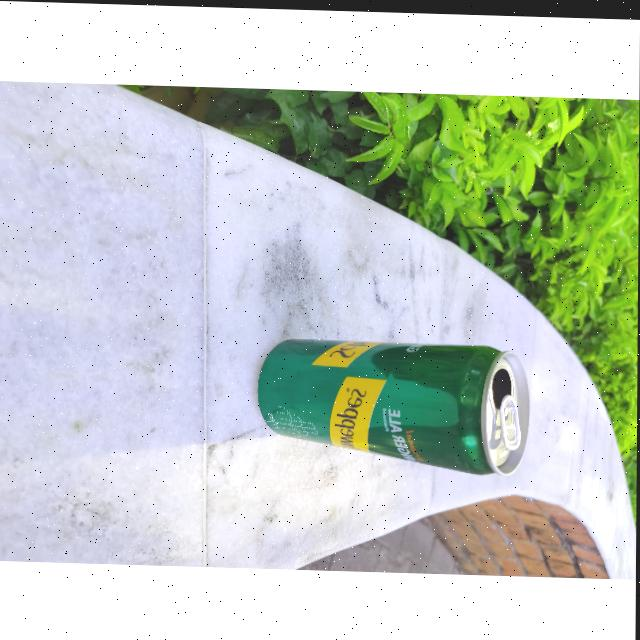Schweppes: (258, 326, 527, 469)
